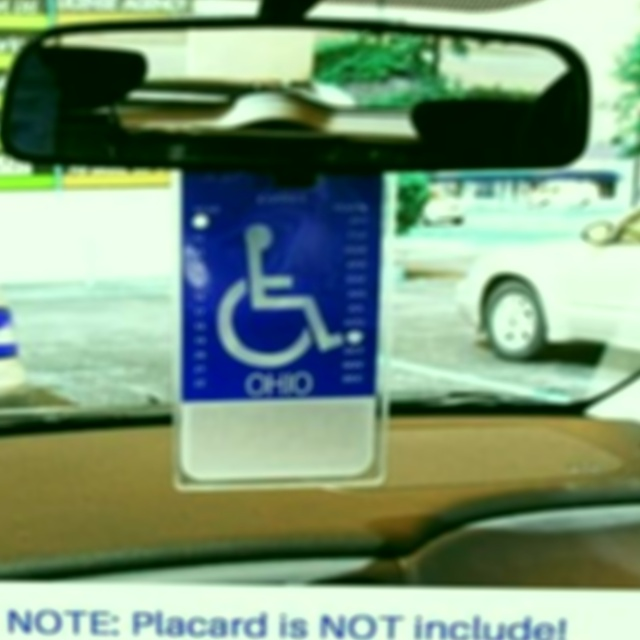ISA: (208, 210, 366, 372)
